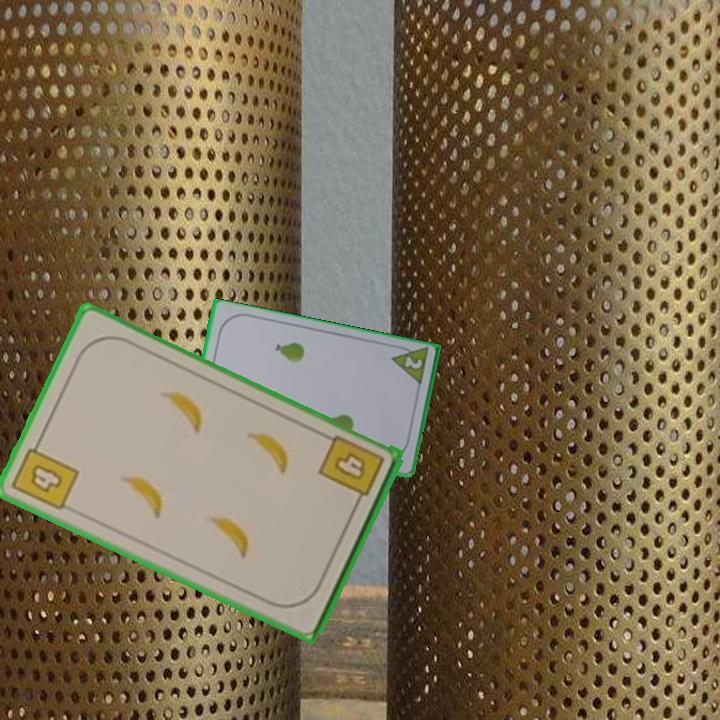2p: (387, 342, 431, 390)
4b: (8, 435, 82, 514), (315, 431, 387, 510)
